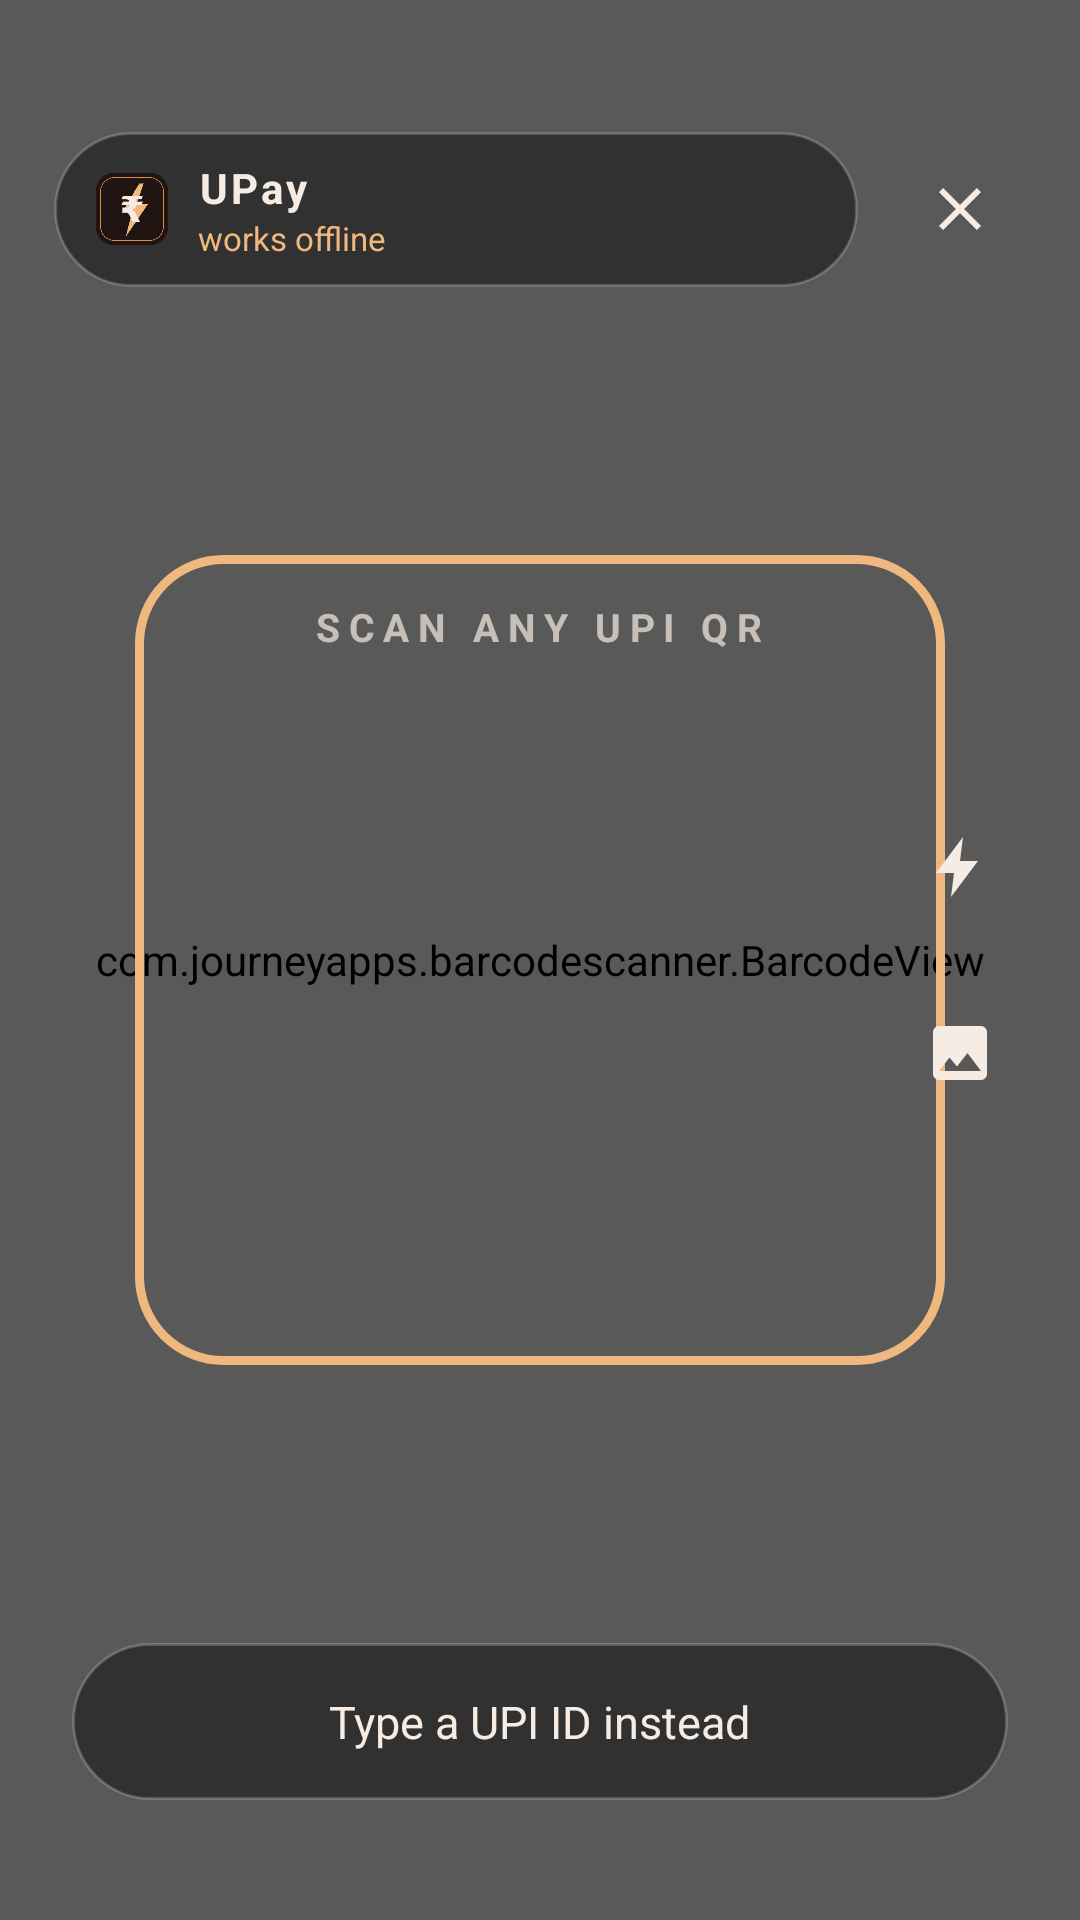

Screen size 1080*1920. Icon name, then its center in pixels as (x,y):
close: (960,209)
